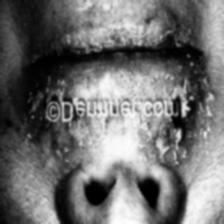Potentially Malignant Skin Tumors: (150, 116, 204, 160), (72, 32, 188, 52), (167, 70, 214, 100), (24, 82, 62, 114), (72, 116, 114, 140), (133, 116, 145, 142)
